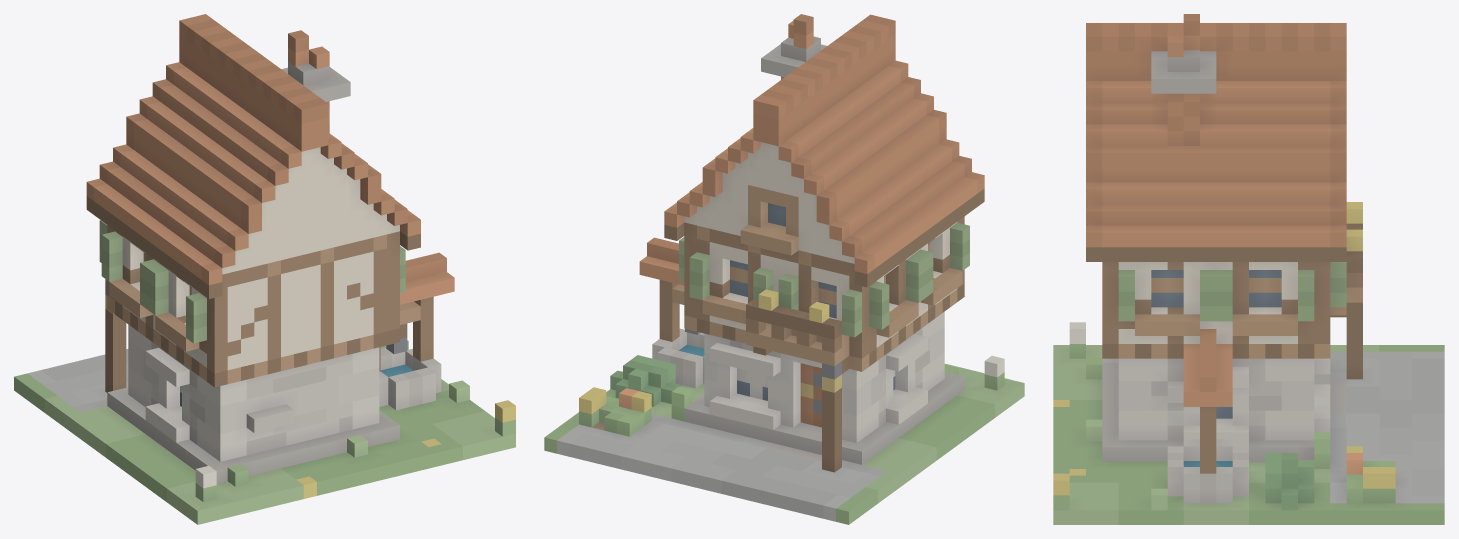
The model's file is house_citizens.v1.glb.
3 views of the same model, side by side, from view 1: azimuth 30°, elevation 25°; view 2: azimuth 150°, elevation 25°; view 3: azimuth 270°, elevation 25° (orthographic). The views are drawn at different scales.
Parts seen in each view (by area): view 1: house_citizens; view 2: house_citizens; view 3: house_citizens.
Part boxes in pixels (x1,y1,x2,y2): house_citizens: [14, 14, 515, 524]; house_citizens: [544, 14, 1024, 524]; house_citizens: [1053, 14, 1444, 524].
Bounding box in the file's own units: 3 × 3.62 × 3.
